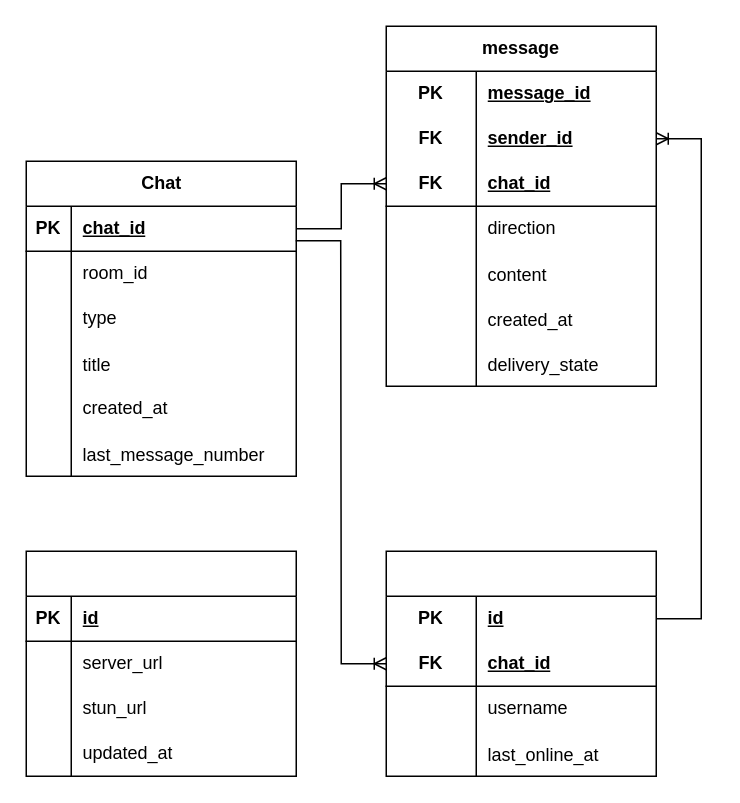
Image size: 740x803. Some labels were removed from this diagram. Each missing label, with the box of its shape:
chat_member: (385, 550, 656, 776)
connection_profile: (25, 550, 296, 776)
